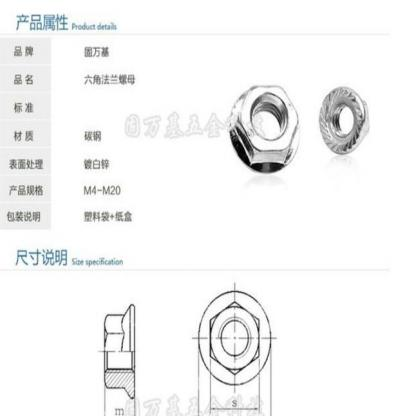FOD: (226, 83, 302, 176), (316, 83, 374, 155)
